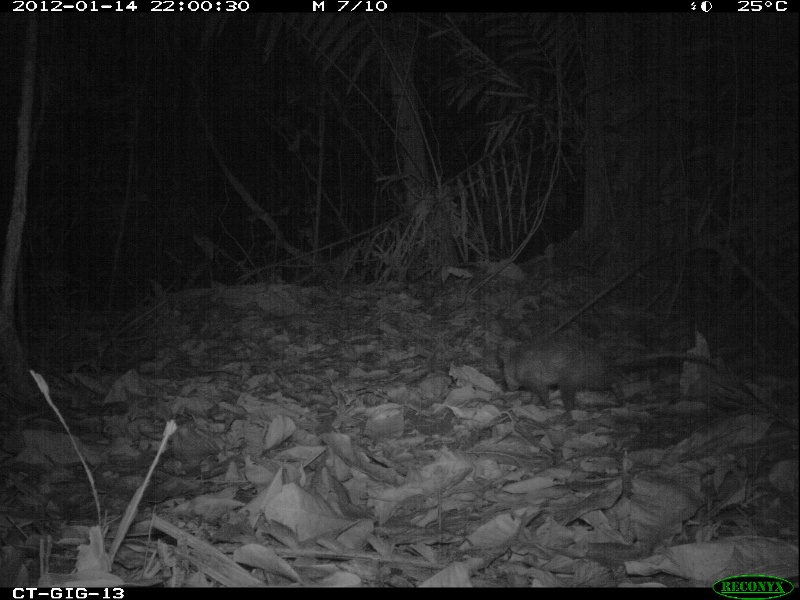opossum: (485, 324, 744, 419)
